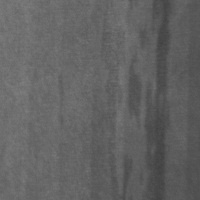inclusion: (126, 1, 172, 199), (52, 69, 68, 130)
